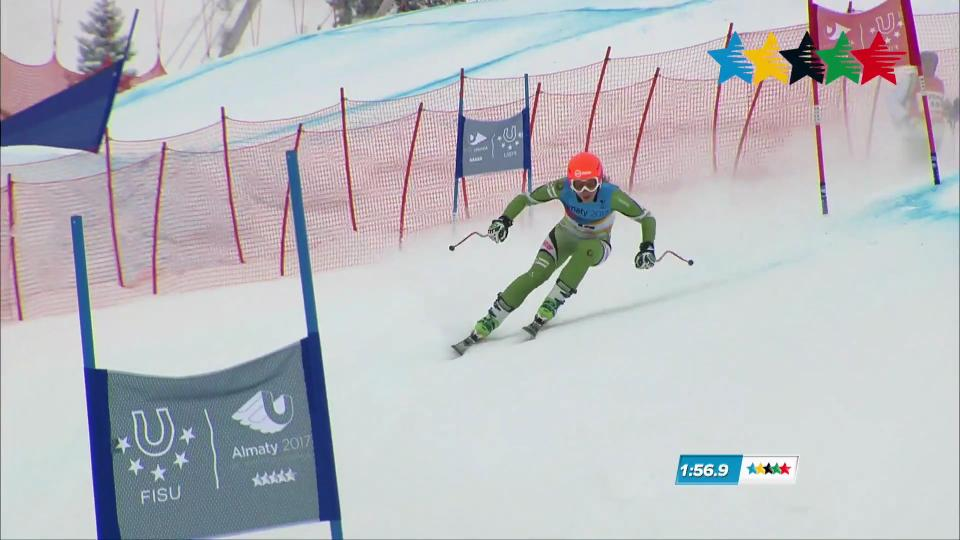gate: (273, 148, 376, 539), (65, 197, 162, 540)
